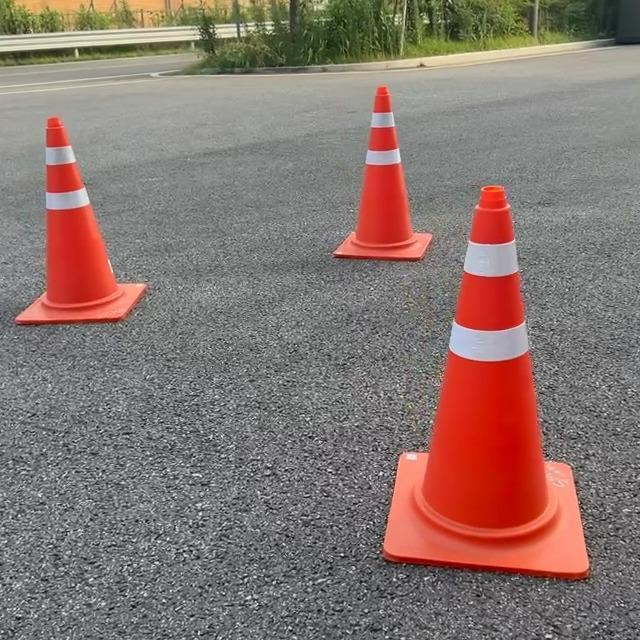fallen_object: (343, 164, 636, 640), (9, 85, 205, 362), (297, 76, 470, 330)
